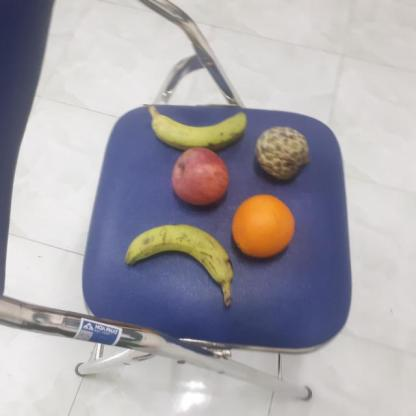annona: (252, 124, 313, 182)
apple: (169, 145, 232, 208)
banana: (121, 220, 234, 287), (148, 108, 252, 150)
orange: (229, 193, 298, 260)
